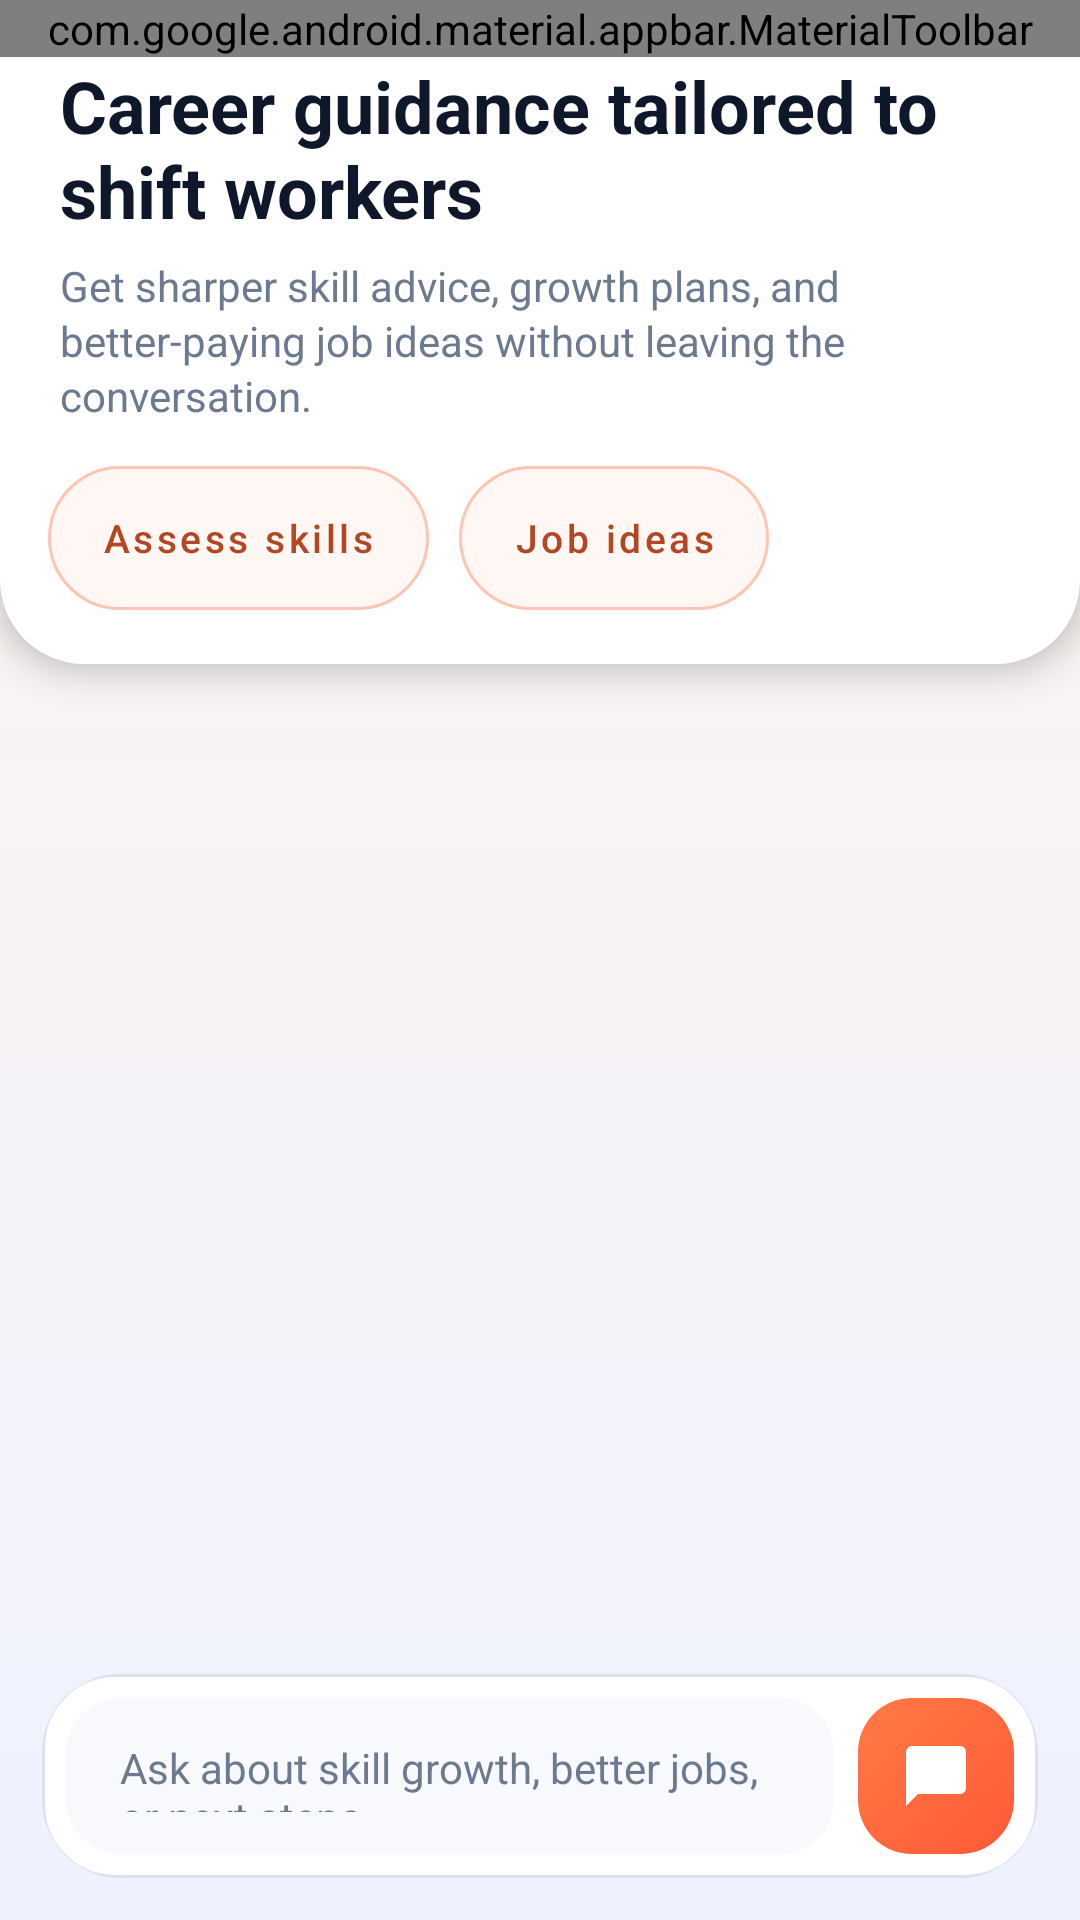

Named icons in this screenshot (1080px x 1920px) and their centers, (x,y):
Send question: (936,1776)
